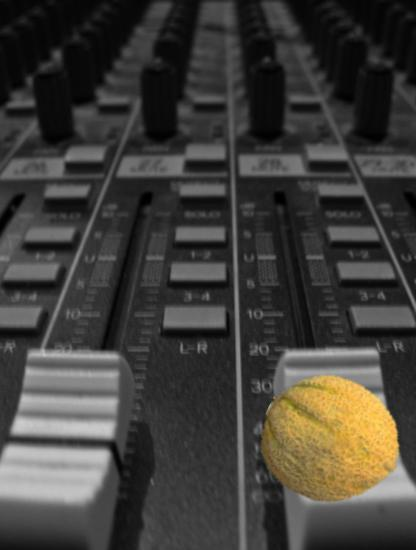Cantaloupe: (260, 370, 402, 512)
